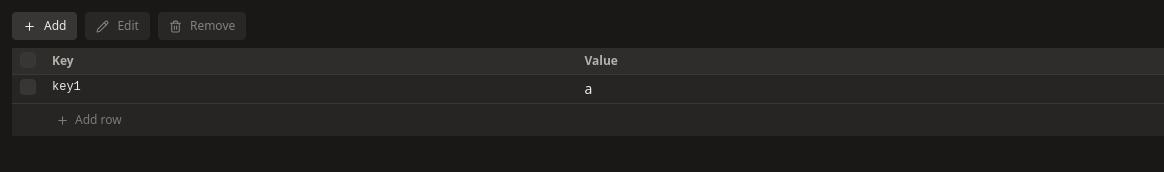
Test case: KeyValueEditor › edits a value inline on double-click
This screenshot has width=1164, height=172.
Double-click the cell with test id "kv-value-key1": (588, 88) [576,74,1163,104]
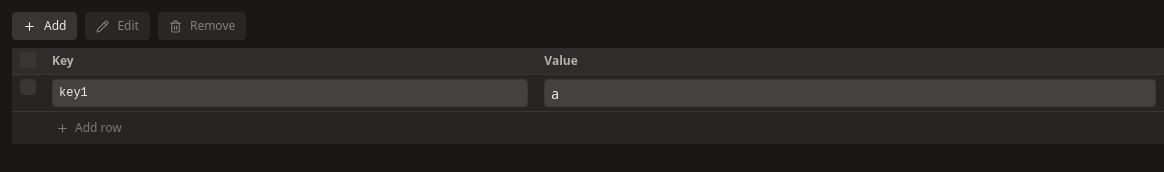
Replace the text in the field with test id "kv-value-edit-key1" with "b": (850, 93) [544,79,1156,107]
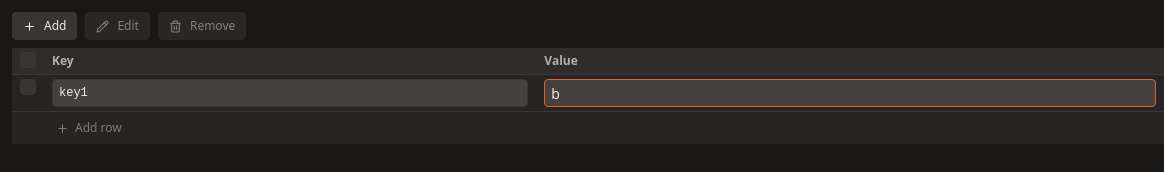
Press Enter
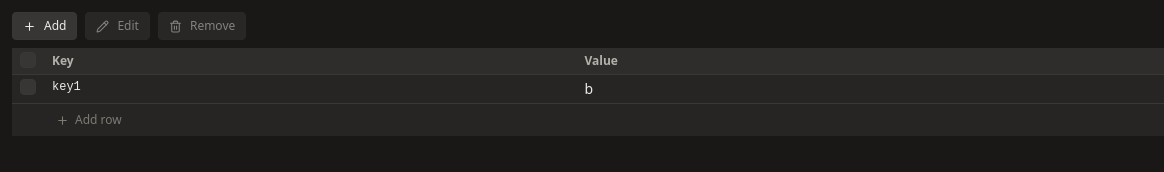
Now the cell with test id "kv-value-key1" reads "b", box [584,79,593,98]
